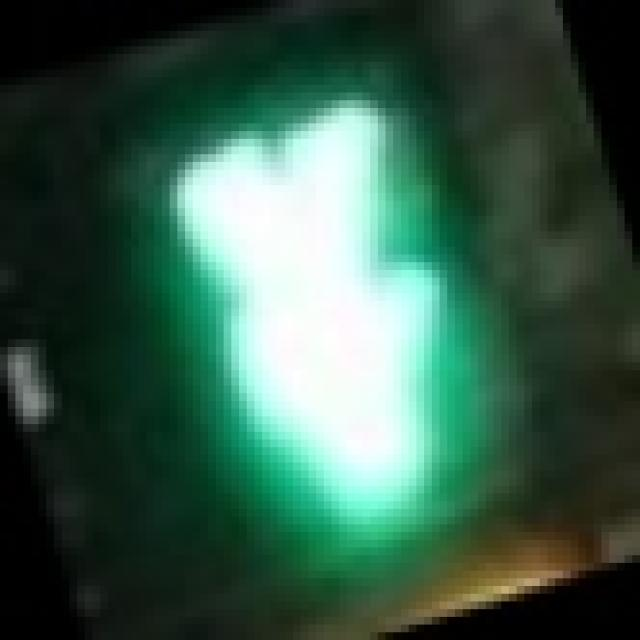green_light: (131, 70, 494, 556)
